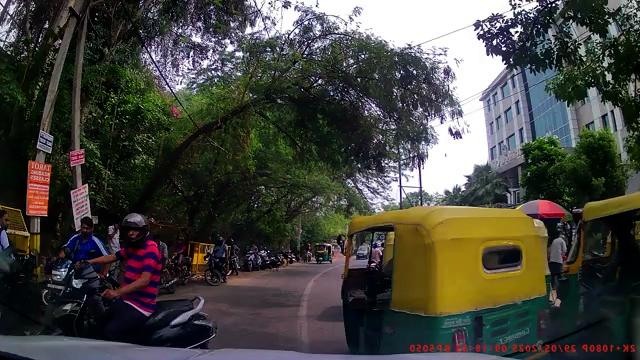motorcycle_with_helmet: (42, 212, 219, 345)
motorcycle_without_helmet: (42, 215, 113, 304)
